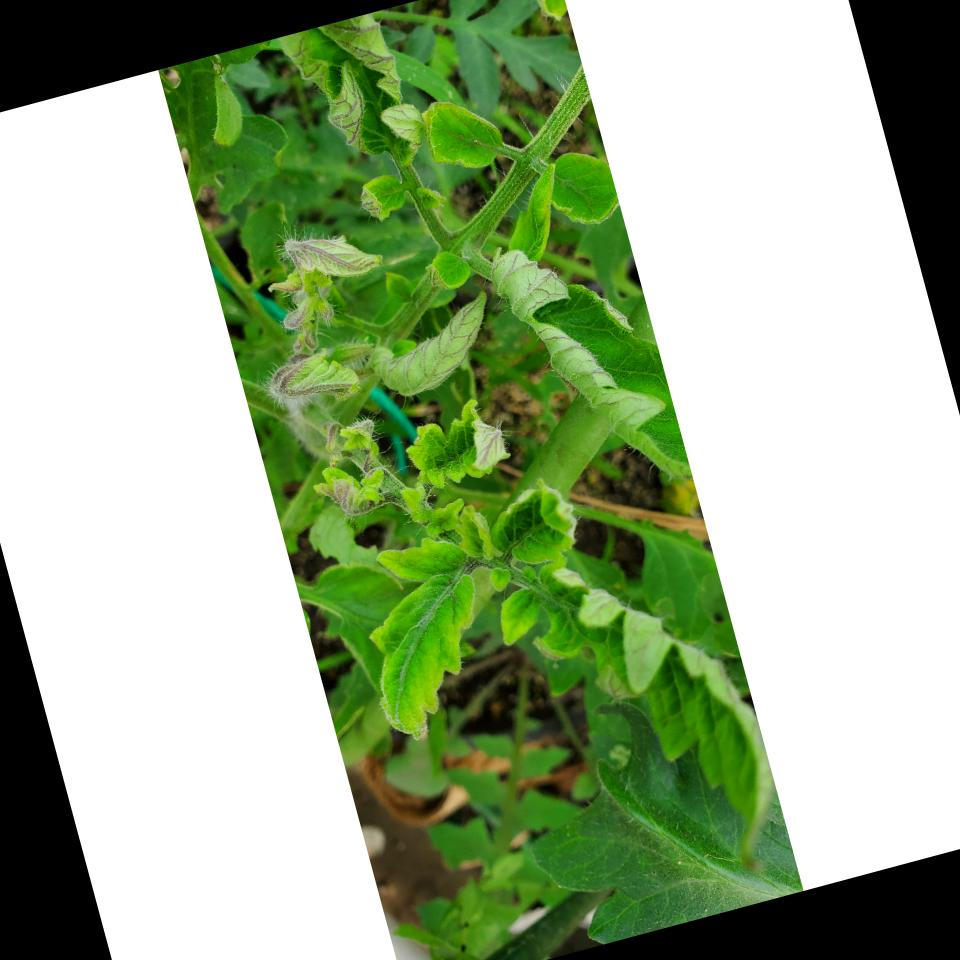tomato_yellow_leaf_curl_virus: (342, 560, 515, 751)
